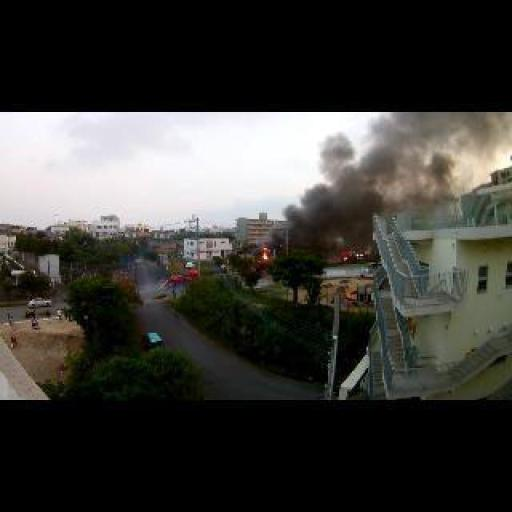smoke: (330, 110, 458, 213), (272, 189, 358, 254), (262, 248, 270, 259)
